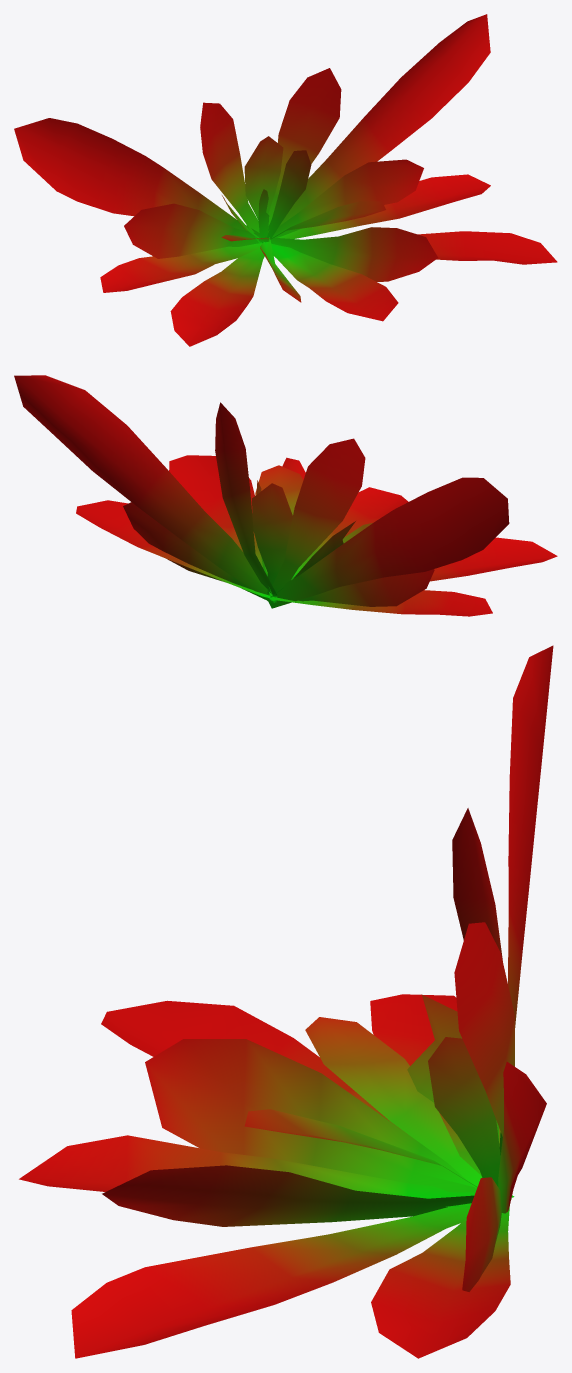
File: Var11_LOD0.fbx
The picture shows the model from 3 angles, top to bottom: view 1: azimuth 30°, elevation 25°; view 2: azimuth 150°, elevation 25°; view 3: azimuth 270°, elevation 25°; orthographic projection. The views are drawn at different scales.
Visible parts, largest first — view 1: _b5ge_Var11_LOD0; view 2: _b5ge_Var11_LOD0; view 3: _b5ge_Var11_LOD0.
Part boxes in pixels (x1=…): _b5ge_Var11_LOD0: x1=14, y1=14, x2=557, y2=346; _b5ge_Var11_LOD0: x1=14, y1=375, x2=557, y2=616; _b5ge_Var11_LOD0: x1=19, y1=645, x2=553, y2=1358.
Size of the model in its own units: 25.11 by 9.23 by 12.34.
